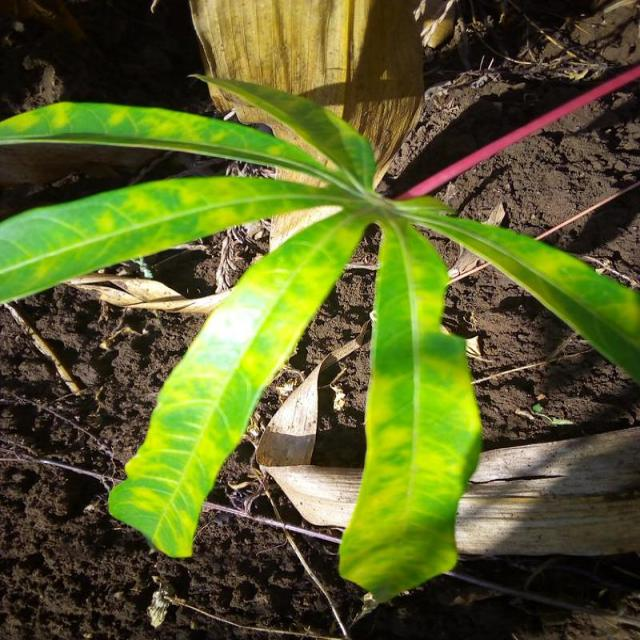cassava leaf: (1, 64, 638, 601), (337, 207, 482, 603)
